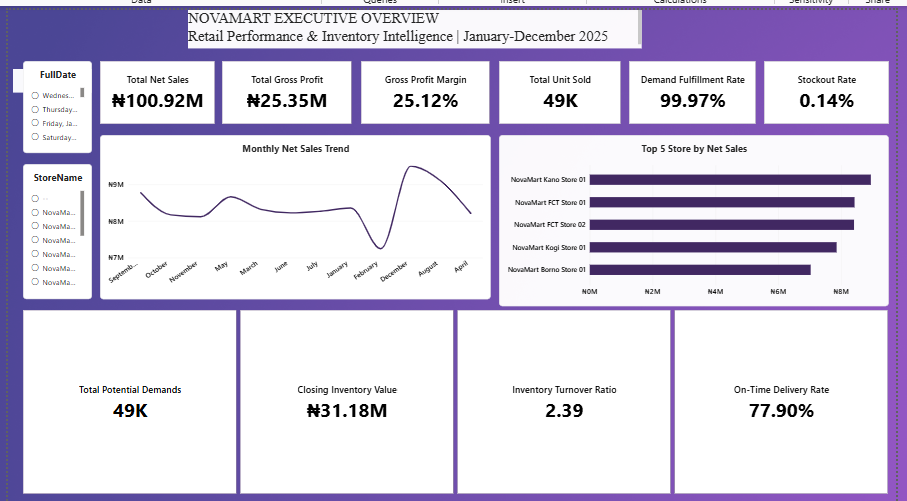

The page's visual inventory and layout, read from the dashboard file:
{"tool":"powerbi","page":{"name":"Executive Overview","canvas":[1920,1080],"ordinal":4},"visuals":[{"type":"textbox","box":[389.1,0,980.1,82.9],"z":0},{"type":"textbox","box":[10.6,127.6,170.1,51],"z":1000},{"type":"listSlicer","fields":{"Values":["DimDate.FullDate"]},"box":[32.4,110.2,149,198.7],"z":2000},{"type":"listSlicer","fields":{"Values":["DimStore.StoreName"]},"box":[32.4,332.6,149,291.6],"z":3000},{"type":"cardVisual","fields":{"Data":["FactSales.Total Net Sales"]},"box":[197.7,110.6,248.7,136.1],"z":4000},{"type":"cardVisual","fields":{"Data":["FactSales.Total Gross Profit"]},"box":[461.3,110.6,280.6,136.1],"z":5000},{"type":"cardVisual","fields":{"Data":["FactSales.Gross Profit Margin"]},"box":[763.2,110.6,278.5,136.1],"z":6000},{"type":"cardVisual","fields":{"Data":["FactSales.Total Unit Sold"]},"box":[1060.9,110.6,263.6,136.1],"z":7000},{"type":"cardVisual","fields":{"Data":["FactDemand.Demand Fulfillment Rate"]},"box":[1341.5,110.6,274.3,136.1],"z":8000},{"type":"cardVisual","fields":{"Data":["FactInventorySnapshot.Stockout Rate"]},"box":[1632.8,110.6,270,136.1],"z":9000},{"type":"lineChart","title":"Monthly Net Sales Trend","fields":{"Category":["DimDate.MonthName"],"Y":["FactSales.Total Net Sales"]},"box":[197.7,270,844,355],"z":10000},{"type":"clusteredBarChart","title":"Top 5 Store by Net Sales","fields":{"Category":["DimStore.StoreName"],"Y":["FactSales.Total Net Sales"]},"box":[1060.9,270,841.9,369.9],"z":12000},{"type":"cardVisual","fields":{"Data":["FactDemand.Total Potential Demands","FactInventorySnapshot.Closing Inventory Value","DimCategory.Inventory Turnover Ratio","DimCategory.On-Time Delivery Rate"]},"box":[31.9,648.4,1870.9,397.6],"z":13000}]}

Visuals, with their boxes on the page's 1920x1080 design canvas (x1, y1, x2, y2). These are canvas units, not pixel positions in the 907x501 screenshot, which may show the page scaled, cropped or inside an application window:
textbox: region(389, 0, 1369, 83)
textbox: region(11, 128, 181, 179)
listSlicer - DimDate.FullDate: region(32, 110, 181, 309)
listSlicer - DimStore.StoreName: region(32, 333, 181, 624)
cardVisual - FactSales.Total Net Sales: region(198, 111, 446, 247)
cardVisual - FactSales.Total Gross Profit: region(461, 111, 742, 247)
cardVisual - FactSales.Gross Profit Margin: region(763, 111, 1042, 247)
cardVisual - FactSales.Total Unit Sold: region(1061, 111, 1324, 247)
cardVisual - FactDemand.Demand Fulfillment Rate: region(1342, 111, 1616, 247)
cardVisual - FactInventorySnapshot.Stockout Rate: region(1633, 111, 1903, 247)
"Monthly Net Sales Trend" lineChart: region(198, 270, 1042, 625)
"Top 5 Store by Net Sales" clusteredBarChart: region(1061, 270, 1903, 640)
cardVisual - FactDemand.Total Potential Demands x FactInventorySnapshot.Closing Inventory Value: region(32, 648, 1903, 1046)
